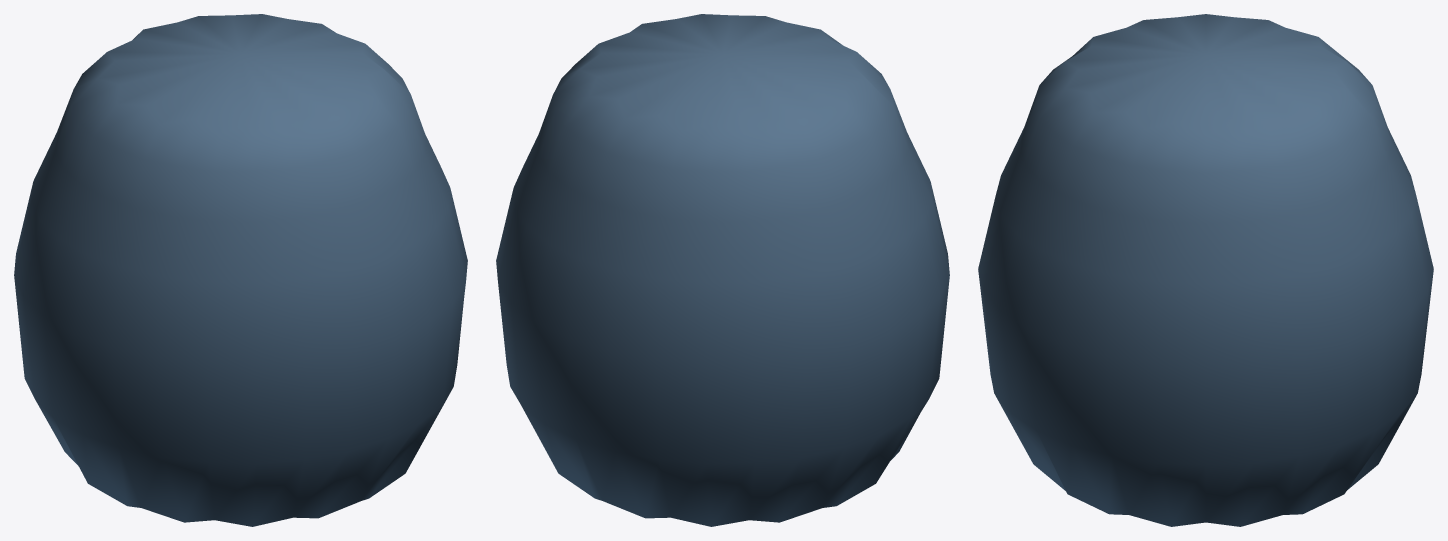
The model's file is wand_jar.glb.
The picture shows the model from 3 angles, left to right: view 1: azimuth 30°, elevation 25°; view 2: azimuth 150°, elevation 25°; view 3: azimuth 270°, elevation 25°; orthographic projection.
Visible parts, largest first — view 1: wand_jar; view 2: wand_jar; view 3: wand_jar.
Boxes of the visible parts, <box> form: wand_jar: <box>14,14,467,526</box>; wand_jar: <box>496,14,949,526</box>; wand_jar: <box>978,14,1433,526</box>.
Size of the model in its own units: 0.1773 by 0.1939 by 0.1773.
